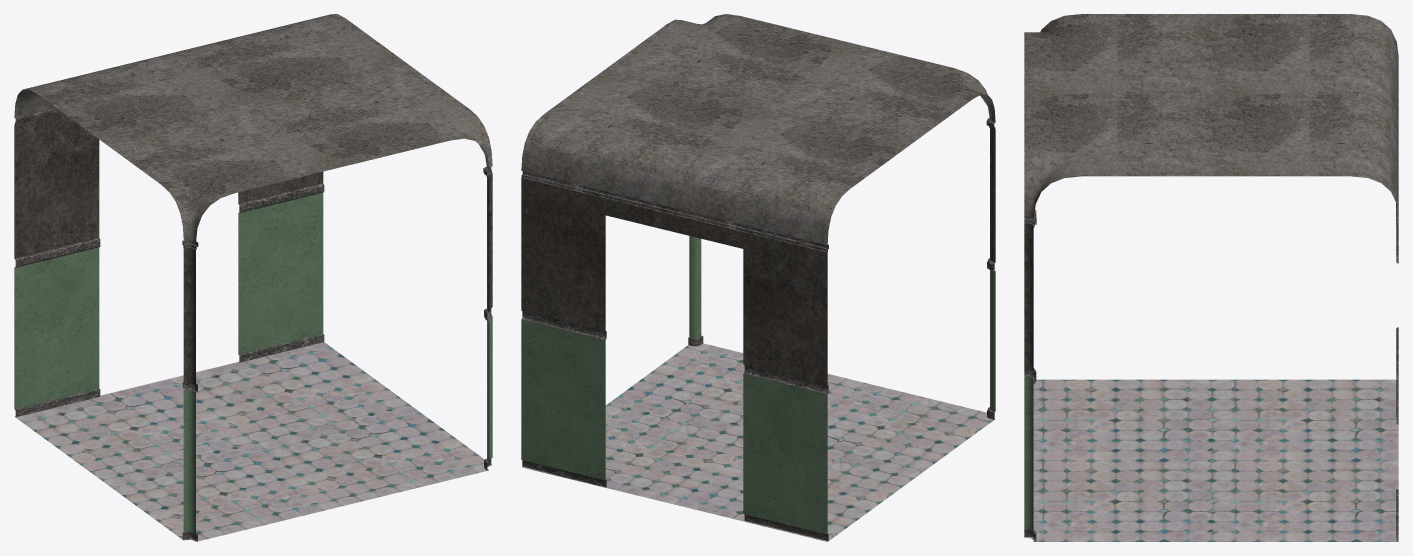
Rendered from CorridorBlockThreeSide_WithDoorway.FBX.
The picture shows the model from 3 angles, left to right: view 1: azimuth 30°, elevation 25°; view 2: azimuth 150°, elevation 25°; view 3: azimuth 270°, elevation 25°; orthographic projection. The views are drawn at different scales.
Visible parts, largest first — view 1: ThreeSide_withDoorway; view 2: ThreeSide_withDoorway; view 3: ThreeSide_withDoorway.
Boxes of the visible parts, <box> form: ThreeSide_withDoorway: <box>14,14,492,541</box>; ThreeSide_withDoorway: <box>521,14,995,541</box>; ThreeSide_withDoorway: <box>1024,14,1398,541</box>.
Size of the model in its own units: 78.74 by 82.67 by 76.77.
